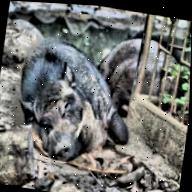boar: (2, 21, 142, 173)
